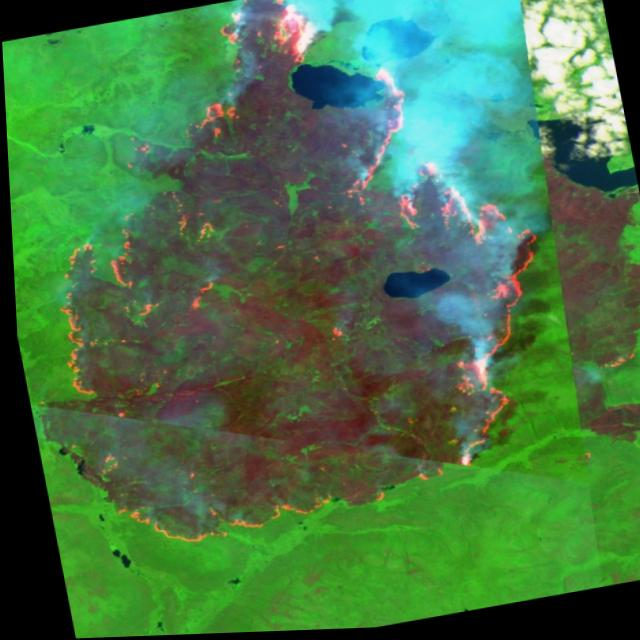fire: (0, 0, 586, 571)
